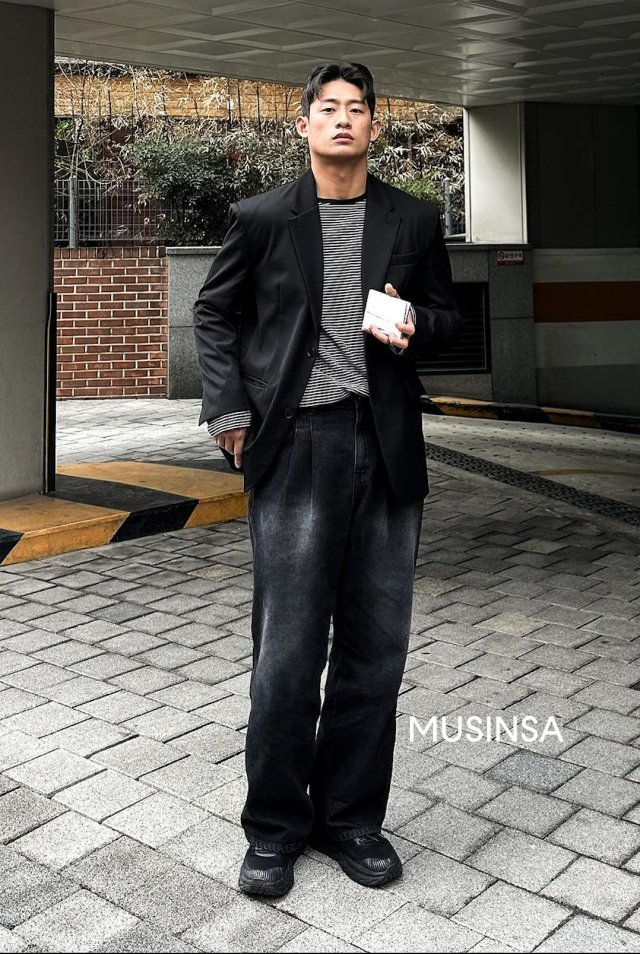Jacket: (194, 169, 461, 498)
Jeans: (235, 400, 421, 844)
Shoes: (232, 828, 406, 901)
